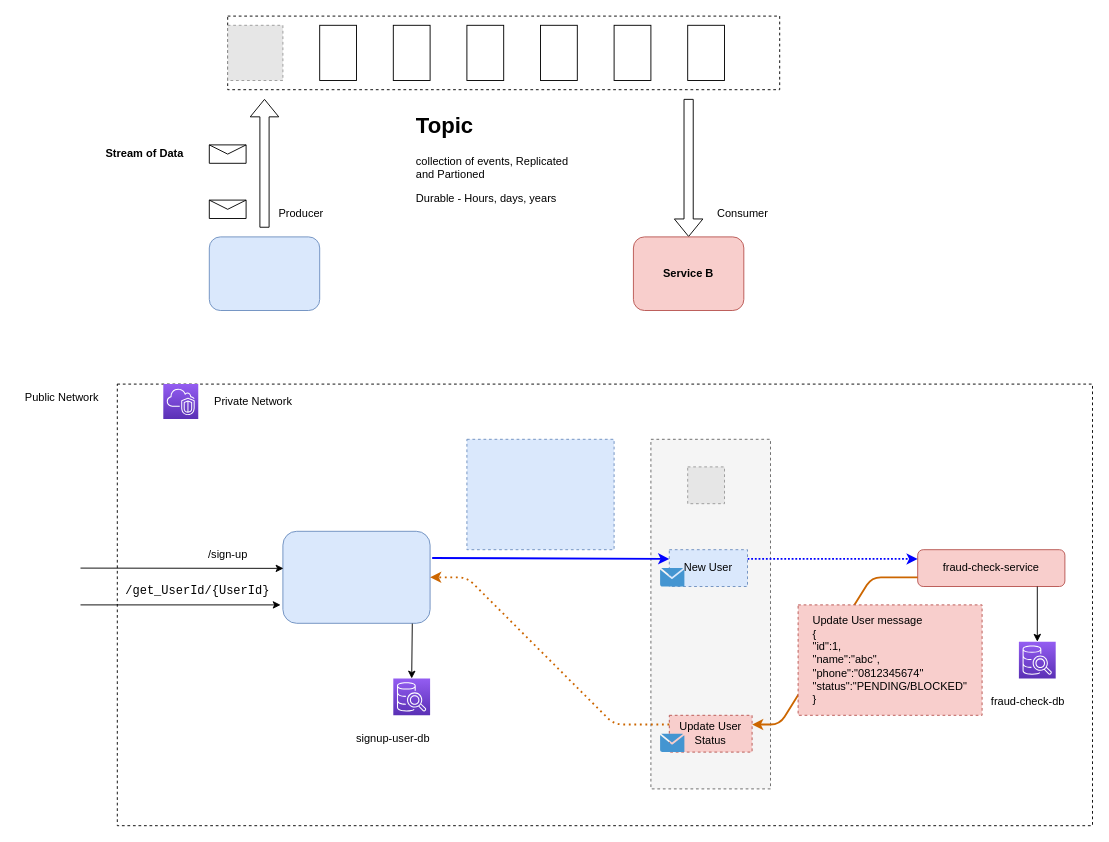
Image size: 1109x842. Some labels were removed from this diagram. Grey dashed boxes stand in for pictures. The shapes that lost their labels are listed below. From the top down, each one's centre as x and y in pixels, then its label:
point 264,273: Service A
point 540,494: New User message { "id":1, "name":"abc", "phone":"0812345674" "status":"OPEN" }
point 356,576: signup-user-service
